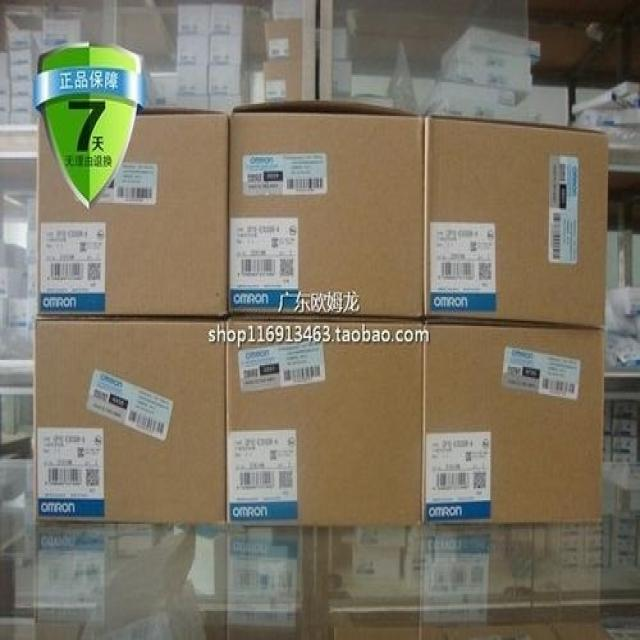box: (227, 99, 425, 324), (32, 316, 227, 526), (225, 321, 422, 527), (36, 109, 228, 319), (424, 114, 608, 331), (422, 321, 603, 527), (439, 24, 541, 65), (436, 65, 532, 106), (440, 49, 531, 73), (264, 58, 302, 102), (207, 65, 251, 101), (264, 20, 303, 60), (209, 0, 246, 38), (209, 36, 250, 70), (178, 32, 210, 68), (178, 2, 209, 34), (177, 67, 209, 96)
